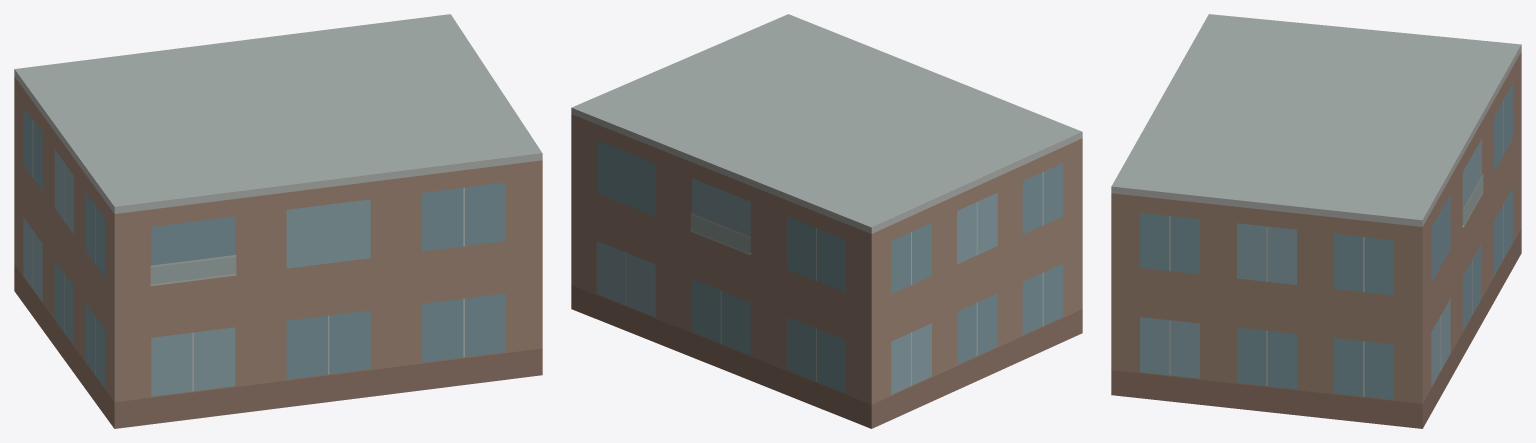
Rendered from survey-upis-32871942.glb.
The picture shows the model from 3 angles, left to right: view 1: azimuth 30°, elevation 25°; view 2: azimuth 150°, elevation 25°; view 3: azimuth 270°, elevation 25°; orthographic projection. The views are drawn at different scales.
Parts seen in each view (by area): view 1: survey-upis-32871942.tmp; view 2: survey-upis-32871942.tmp; view 3: survey-upis-32871942.tmp.
Boxes of the visible parts, x1,y1,x2,y2 form: survey-upis-32871942.tmp: (14,14,542,428); survey-upis-32871942.tmp: (571,14,1082,428); survey-upis-32871942.tmp: (1111,14,1521,428).
Bounding box in the file's own units: 16.13 × 7.6 × 13.56.
